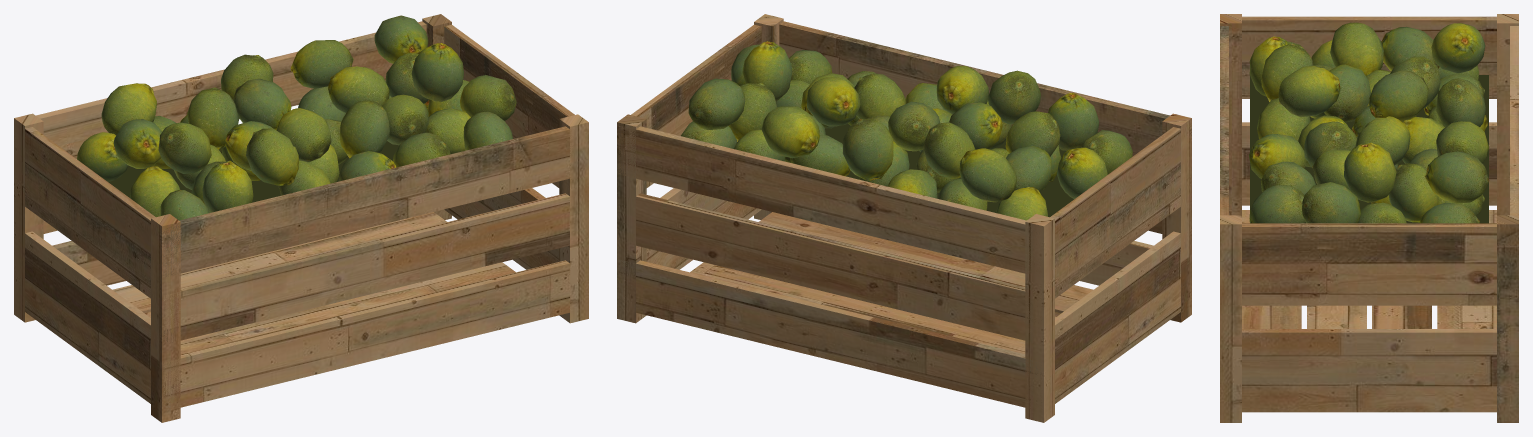
File: skrzynka_limonki.glb
3 renders of one model, left to right at view 1: azimuth 30°, elevation 25°; view 2: azimuth 150°, elevation 25°; view 3: azimuth 270°, elevation 25°, orthographic.
Parts seen in each view (by area): view 1: skrzynka, limonki, dno; view 2: skrzynka, limonki, dno; view 3: skrzynka, limonki, dno.
Boxes of the visible parts, bbox=[...] form: skrzynka: bbox=[14, 14, 588, 422]; limonki: bbox=[77, 15, 516, 220]; dno: bbox=[108, 109, 427, 202]; skrzynka: bbox=[617, 14, 1191, 422]; limonki: bbox=[681, 41, 1132, 220]; dno: bbox=[737, 123, 1074, 217]; skrzynka: bbox=[1220, 14, 1518, 422]; limonki: bbox=[1248, 22, 1489, 223]; dno: bbox=[1250, 75, 1488, 223].
Bounding box in the file's own units: 0.5 × 0.2682 × 0.3.
3 materials, 3 textured.
